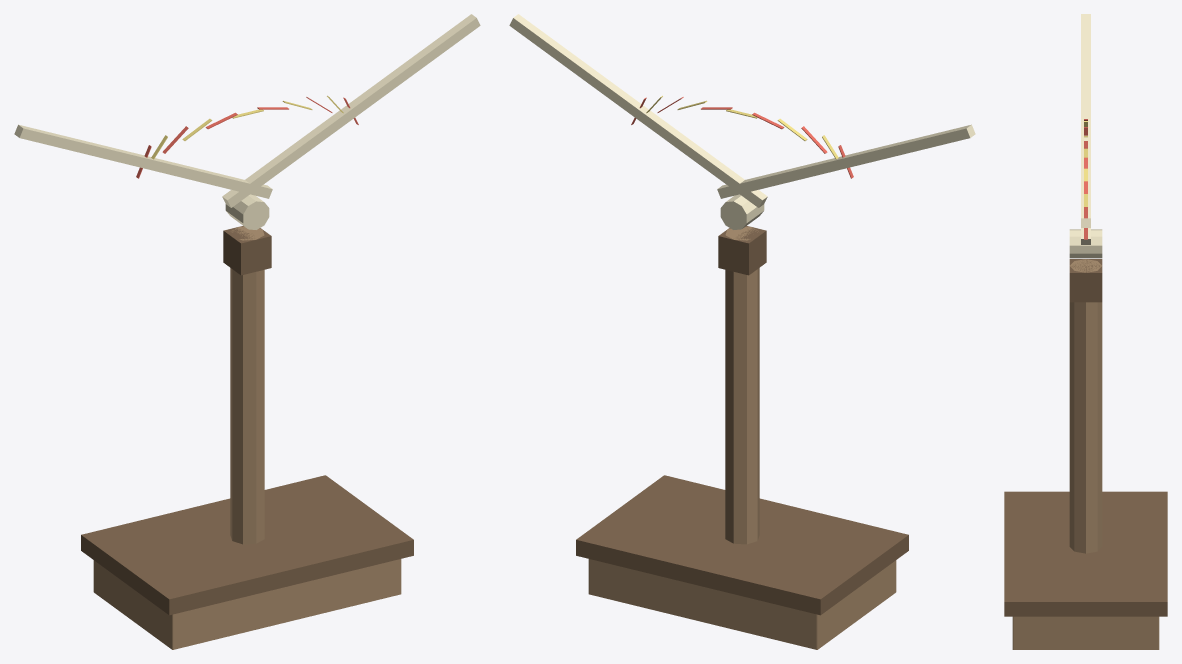
The model's file is fan_holder.glb.
3 views of the same model, side by side, from view 1: azimuth 30°, elevation 25°; view 2: azimuth 150°, elevation 25°; view 3: azimuth 270°, elevation 25° (orthographic). The views are drawn at different scales.
Parts seen in each view (by area): view 1: fan_holder; view 2: fan_holder; view 3: fan_holder.
Part boxes in pixels (x1,y1,x2,y2): fan_holder: [14, 14, 480, 649]; fan_holder: [509, 14, 975, 649]; fan_holder: [1004, 14, 1167, 649].
Size of the model in its own units: 0.6032 by 0.6526 by 0.2.
